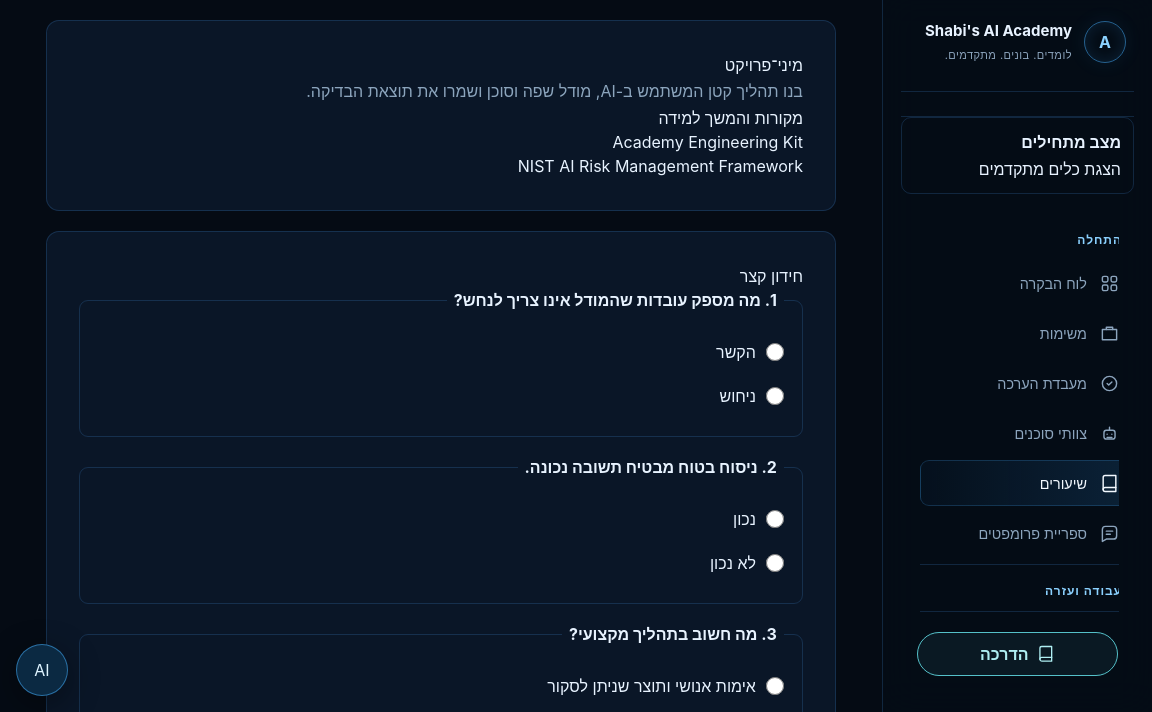
Scenario: Lesson quiz and completion › marks a lesson complete once the quiz has been submitted as evidence
(page scrolled)
Click the radio button labelled "הקשר": (775, 352) [766,343,784,361]
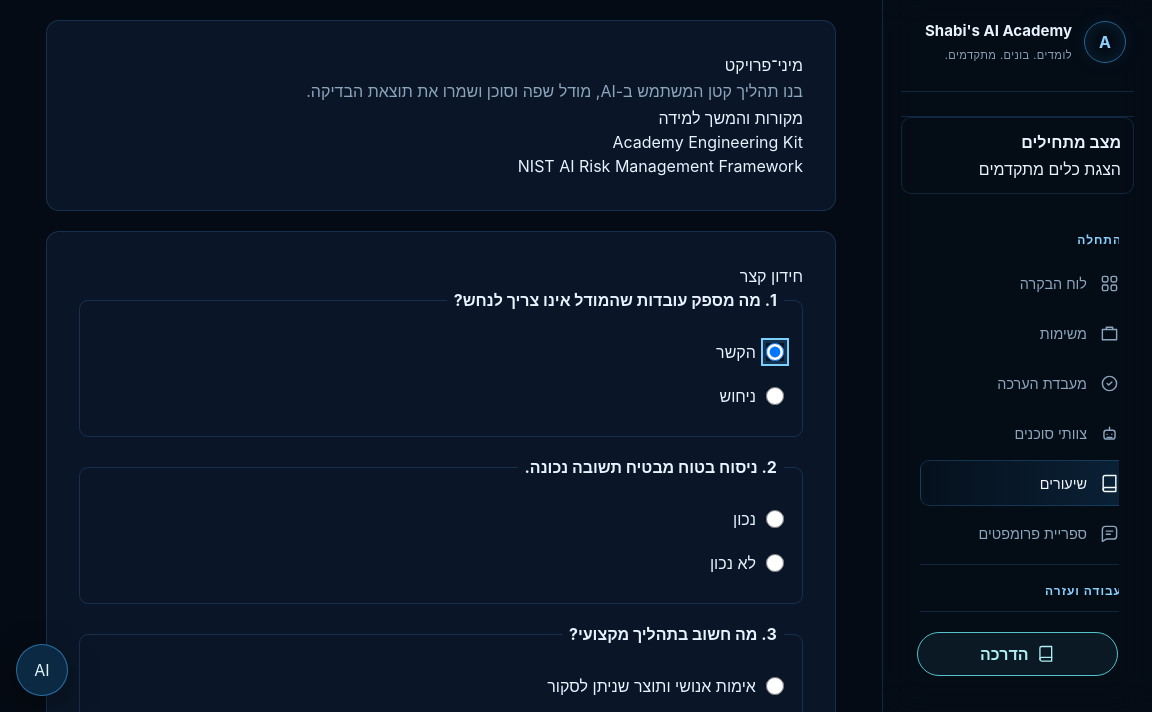
Click the radio button labelled "נכון": (775, 519) [766,510,784,528]
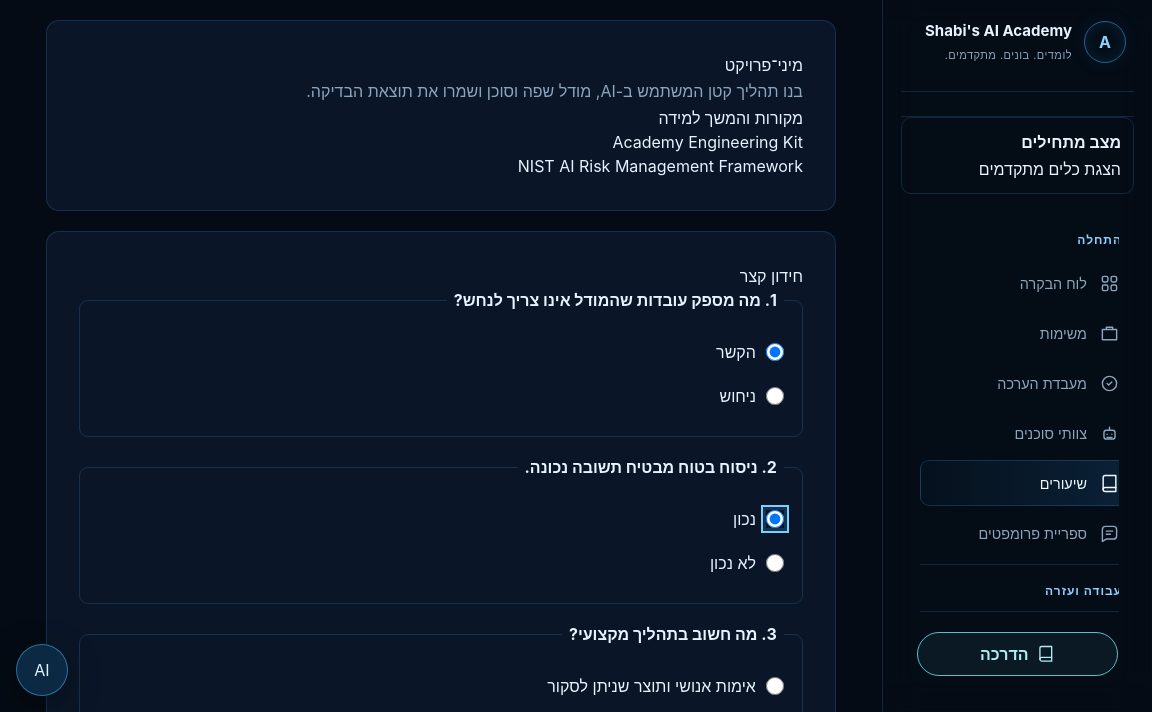
Click the radio button labelled "אימות אנושי ותוצר שניתן לסקור": (775, 686) [766,677,784,695]
(page scrolled)
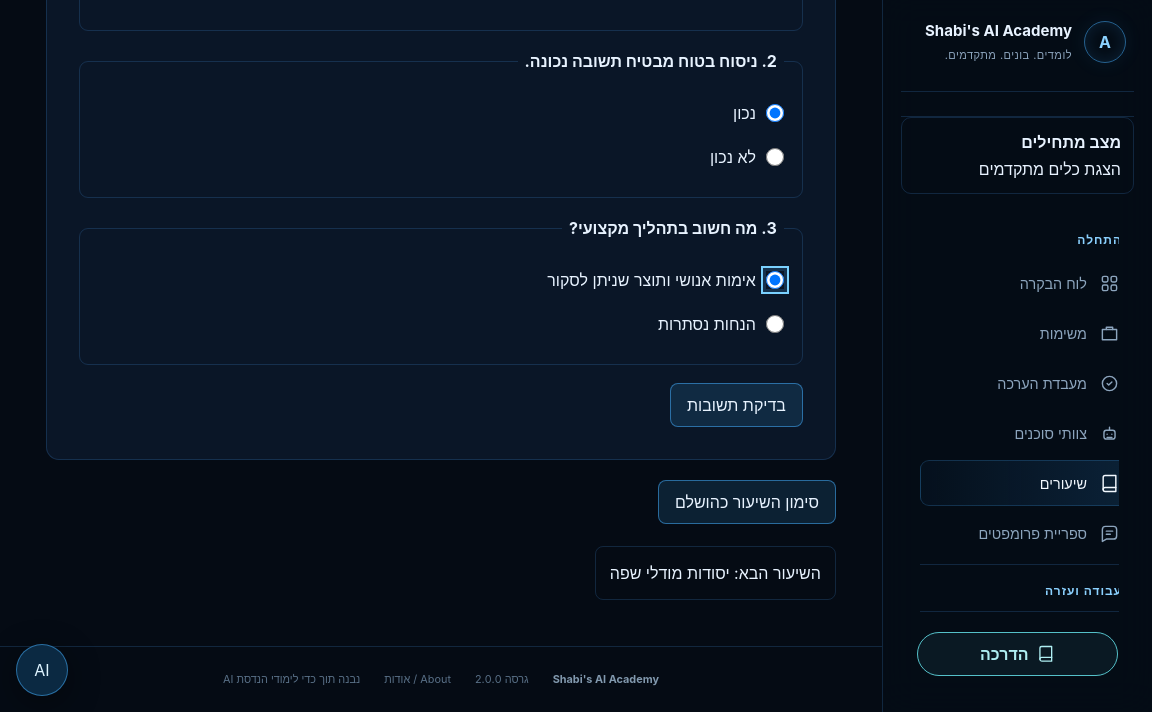
Click the button "בדיקת תשובות": (736, 405) [670,383,803,427]
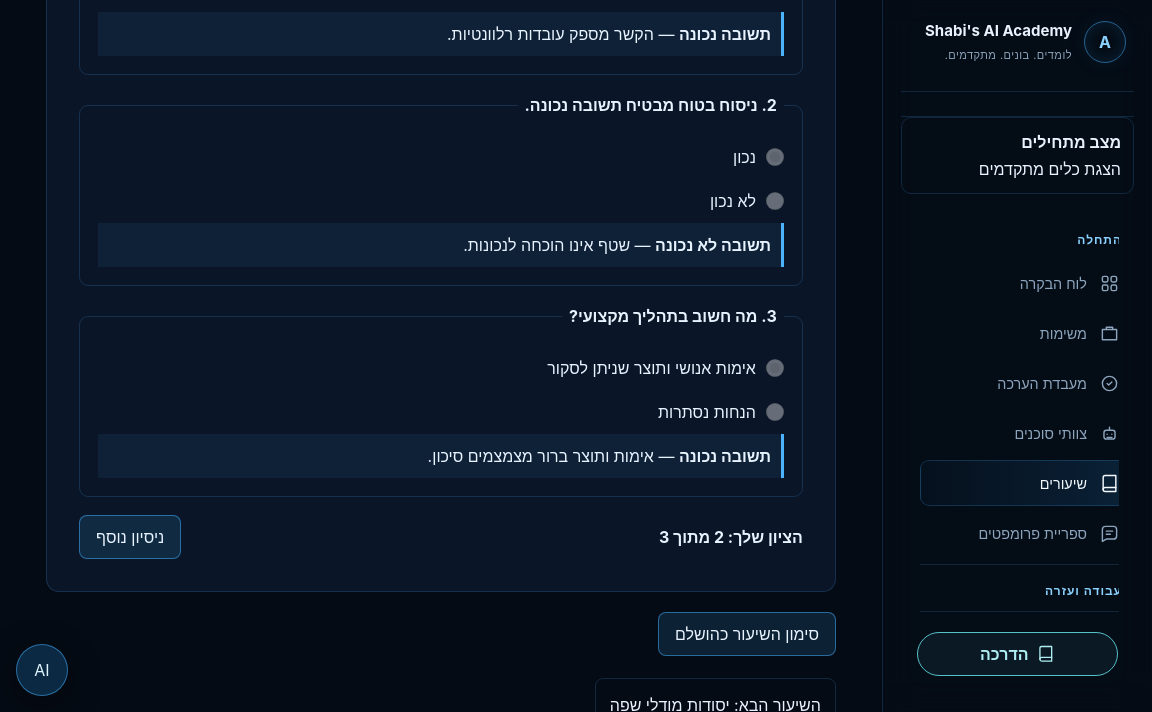
Click the button "סימון השיעור כהושלם": (747, 634) [658,612,836,656]
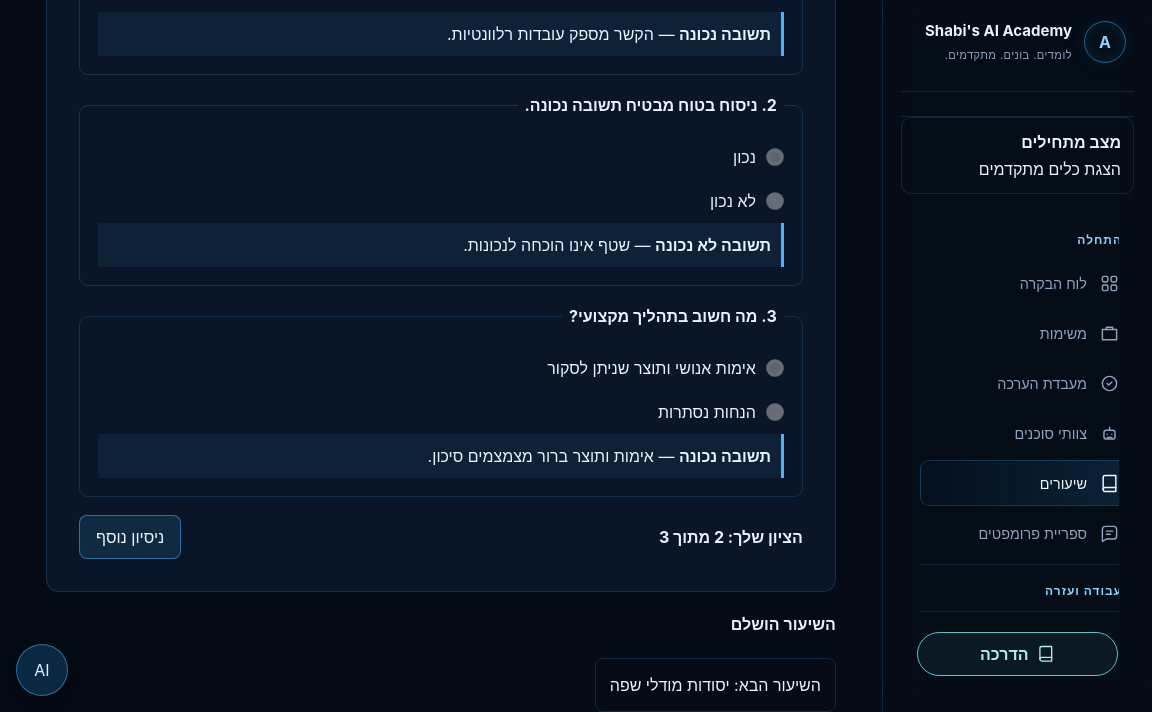
Expected: the text "השיעור הושלם" is shown, [731,612,836,636]
